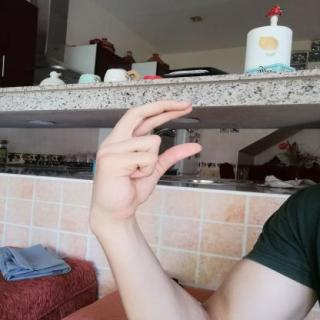DHELL: (81, 94, 209, 223)
